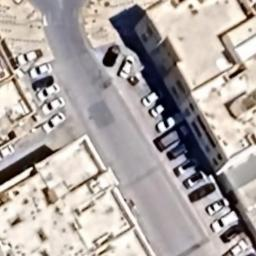SUV: (208, 208, 240, 235), (156, 112, 184, 134)
pickup: (13, 46, 44, 66)
sedan: (185, 182, 217, 205), (40, 112, 68, 134), (138, 84, 164, 106), (179, 170, 210, 188), (216, 239, 248, 256), (36, 82, 63, 102), (41, 94, 68, 114), (147, 96, 171, 118), (27, 61, 56, 79), (102, 44, 121, 70), (28, 74, 56, 91), (119, 53, 136, 81), (206, 198, 234, 215)
truck: (150, 126, 190, 152)
unknown: (170, 154, 200, 179), (162, 140, 194, 163), (218, 222, 246, 242)
